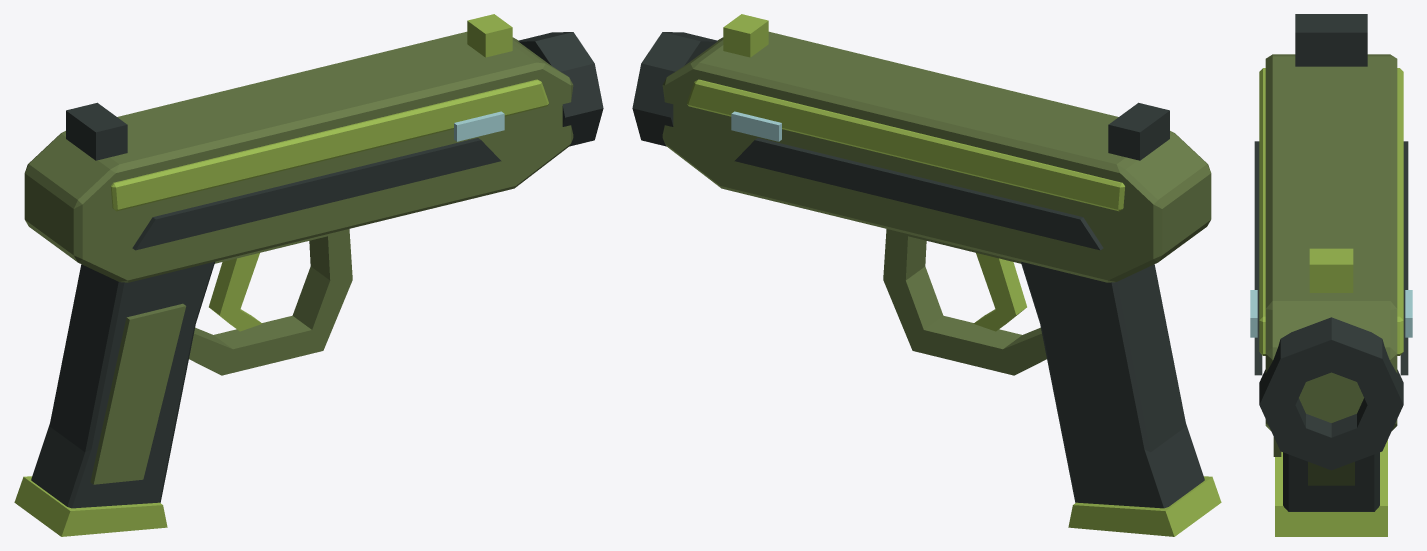
3 renders of one model, left to right at view 1: azimuth 30°, elevation 25°; view 2: azimuth 150°, elevation 25°; view 3: azimuth 270°, elevation 25°, orthographic. The views are drawn at different scales.
Parts seen in each view (by area): view 1: Receptor, Punho, Tampa superior, Rebaixo lateral, Painel do punho, Arco aberto, Base do punho, Terminal frontal, Mira posterior, Gatilho de jogo, Mira frontal, Detalhe de cor; view 2: Receptor, Punho, Tampa superior, Rebaixo lateral.001, Arco aberto, Base do punho, Terminal frontal, Mira posterior, Gatilho de jogo, Mira frontal, Detalhe de cor.001; view 3: Receptor, Terminal frontal, Tampa superior, Punho, Mira posterior, Base do punho, Mira frontal, Rebaixo lateral, Rebaixo lateral.001, Arco aberto, Detalhe de cor, Detalhe de cor.001.
Part boxes in pixels (left/top/right/bottom): Receptor: left=24, top=31, right=573, bottom=282; Punho: left=31, top=261, right=214, bottom=508; Tampa superior: left=110, top=79, right=548, bottom=211; Rebaixo lateral: left=132, top=138, right=501, bottom=250; Painel do punho: left=90, top=303, right=186, bottom=484; Arco aberto: left=189, top=229, right=352, bottom=375; Base do punho: left=14, top=476, right=167, bottom=536; Terminal frontal: left=518, top=32, right=603, bottom=146; Mira posterior: left=66, top=102, right=127, bottom=160; Gatilho de jogo: left=209, top=253, right=262, bottom=331; Mira frontal: left=467, top=14, right=512, bottom=57; Detalhe de cor: left=454, top=111, right=504, bottom=141; Receptor: left=662, top=31, right=1211, bottom=282; Punho: left=1021, top=261, right=1204, bottom=508; Tampa superior: left=687, top=79, right=1125, bottom=211; Rebaixo lateral.001: left=734, top=138, right=1103, bottom=250; Arco aberto: left=883, top=229, right=1046, bottom=375; Base do punho: left=1068, top=476, right=1221, bottom=536; Terminal frontal: left=632, top=32, right=717, bottom=146; Mira posterior: left=1108, top=102, right=1169, bottom=160; Gatilho de jogo: left=973, top=253, right=1026, bottom=331; Mira frontal: left=723, top=14, right=768, bottom=57; Detalhe de cor.001: left=731, top=111, right=781, bottom=141; Receptor: left=1265, top=54, right=1397, bottom=430; Terminal frontal: left=1259, top=317, right=1403, bottom=470; Tampa superior: left=1259, top=68, right=1403, bottom=355; Punho: left=1283, top=452, right=1379, bottom=511; Mira posterior: left=1295, top=14, right=1367, bottom=66; Base do punho: left=1275, top=440, right=1387, bottom=536; Mira frontal: left=1309, top=248, right=1353, bottom=292; Rebaixo lateral: left=1254, top=141, right=1262, bottom=375; Rebaixo lateral.001: left=1400, top=141, right=1408, bottom=375; Arco aberto: left=1308, top=462, right=1354, bottom=485; Detalhe de cor: left=1250, top=290, right=1257, bottom=337; Detalhe de cor.001: left=1405, top=290, right=1412, bottom=337.
Size of the model in its own units: 2.37 by 1.71 by 0.518.
